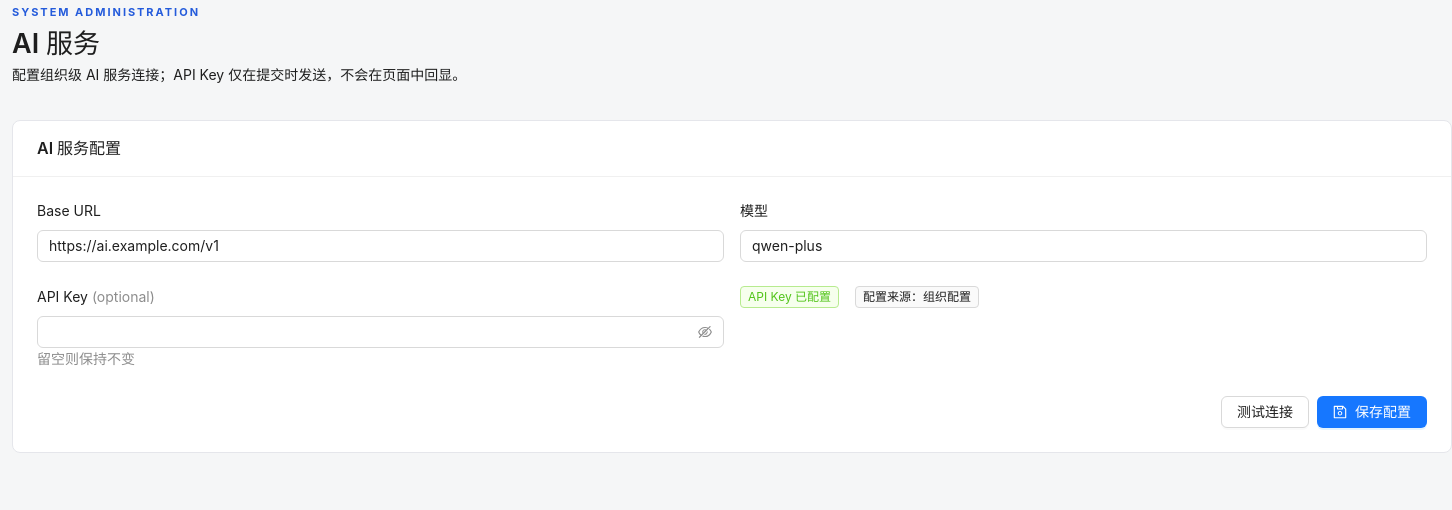
Test: 新的连接测试失败时清除上一次成功结果
Check: the field showing "https://ai.example.com/v1" is shown, box [37, 230, 724, 262]
Click the button "测试连接" at coordinates (1265, 412), box [1221, 396, 1309, 428]
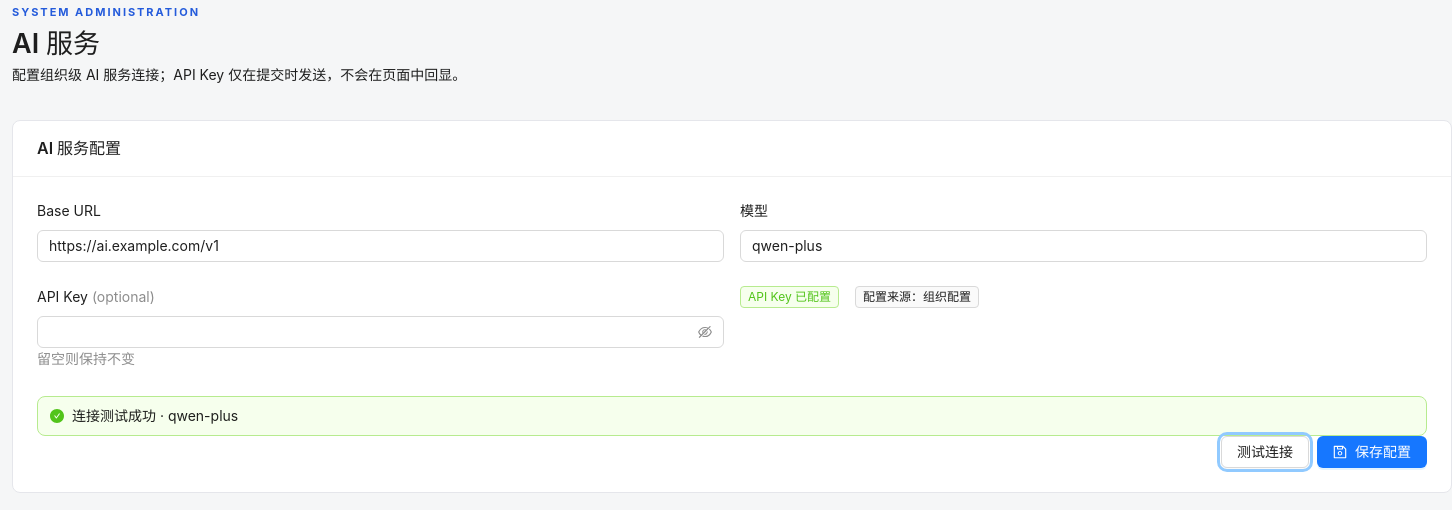
Check: the text "连接测试成功 · qwen-plus" is shown, box [72, 407, 238, 424]
Click the button "测试连接" at coordinates (1265, 452), box [1221, 436, 1309, 468]
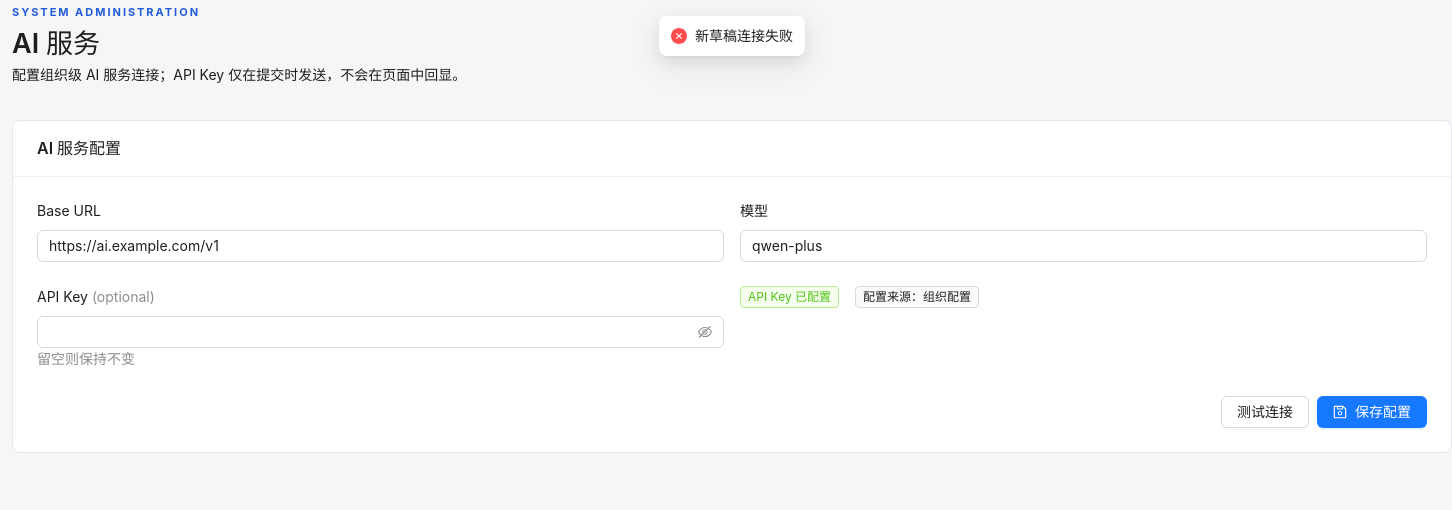
Check: the text "新草稿连接失败" is shown, box [695, 25, 793, 47]
Check: the text "连接测试成功 · qwen-plus" is gone
